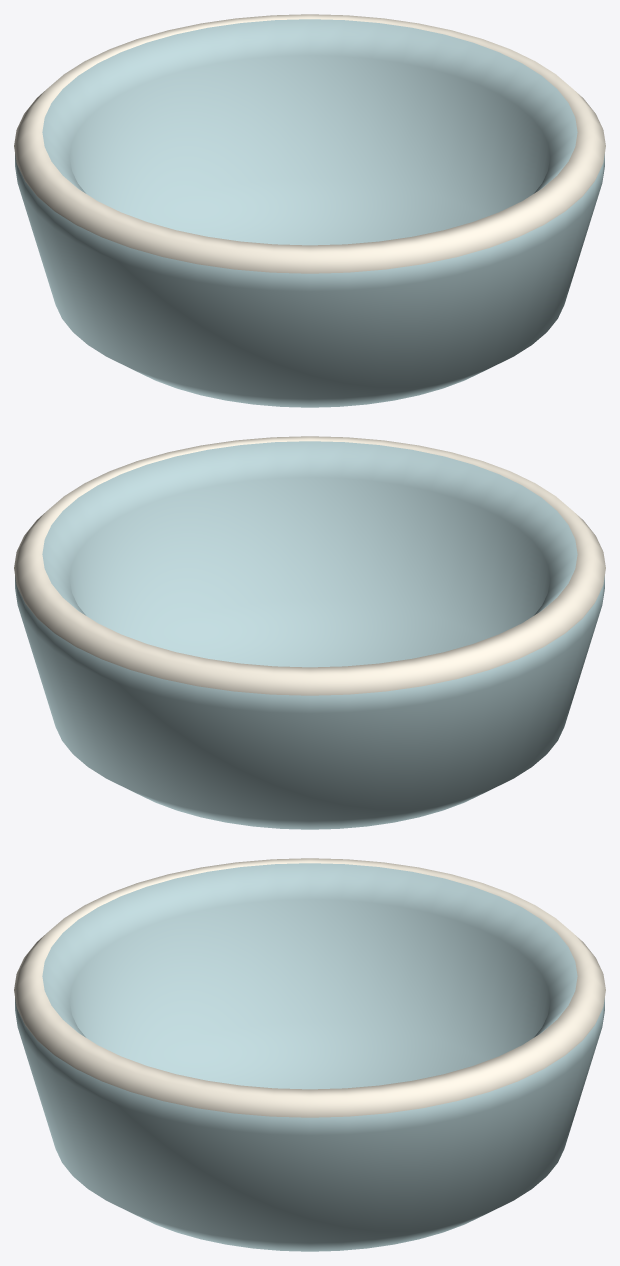
Rendered from bowl.glb.
3 views of the same model, one above another, from view 1: azimuth 30°, elevation 25°; view 2: azimuth 150°, elevation 25°; view 3: azimuth 270°, elevation 25° (orthographic).
Parts seen in each view (by area): view 1: Ceramic drinking bowl, Cream bowl rim; view 2: Ceramic drinking bowl, Cream bowl rim; view 3: Ceramic drinking bowl, Cream bowl rim.
Boxes of the visible parts, x1=… form: Ceramic drinking bowl: x1=15, y1=19, x2=604, y2=407; Cream bowl rim: x1=14, y1=14, x2=605, y2=273; Ceramic drinking bowl: x1=15, y1=441, x2=604, y2=829; Cream bowl rim: x1=14, y1=436, x2=605, y2=695; Ceramic drinking bowl: x1=15, y1=863, x2=604, y2=1251; Cream bowl rim: x1=14, y1=858, x2=605, y2=1117.
Bounding box in the file's own units: 0.542 × 0.185 × 0.542.
